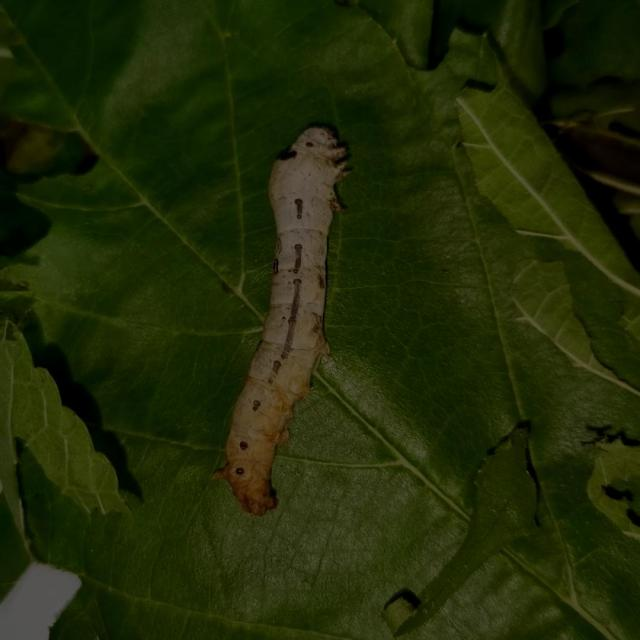Grasserie: (200, 104, 351, 518)
